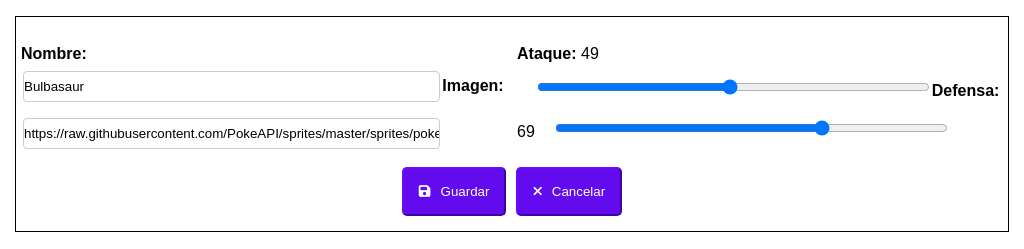
Test case: Testing <Form /> › should clear the form
Click the button with test id "button-clear" at (569,192), box [516,167,622,216]
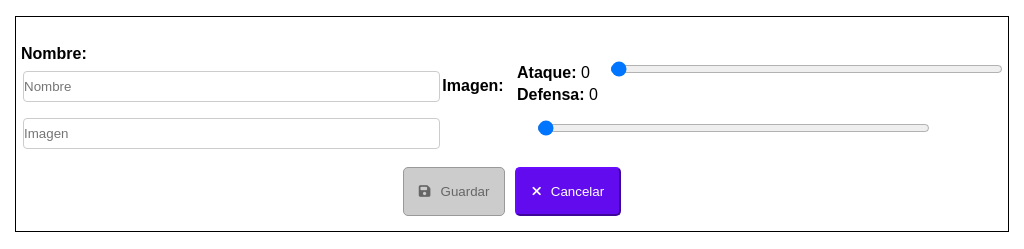
Now the field with test id "input-name" is empty, box [23,71,440,102]
